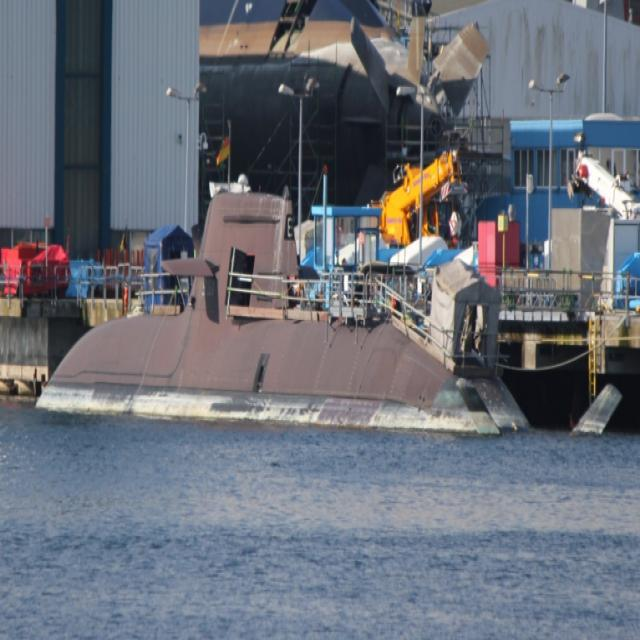submarine: (32, 194, 628, 435)
